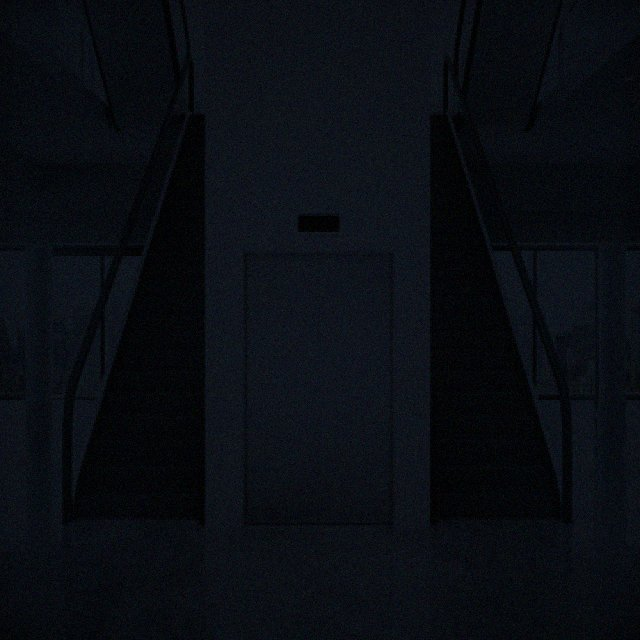stair: (432, 115, 559, 517), (77, 115, 204, 517)
